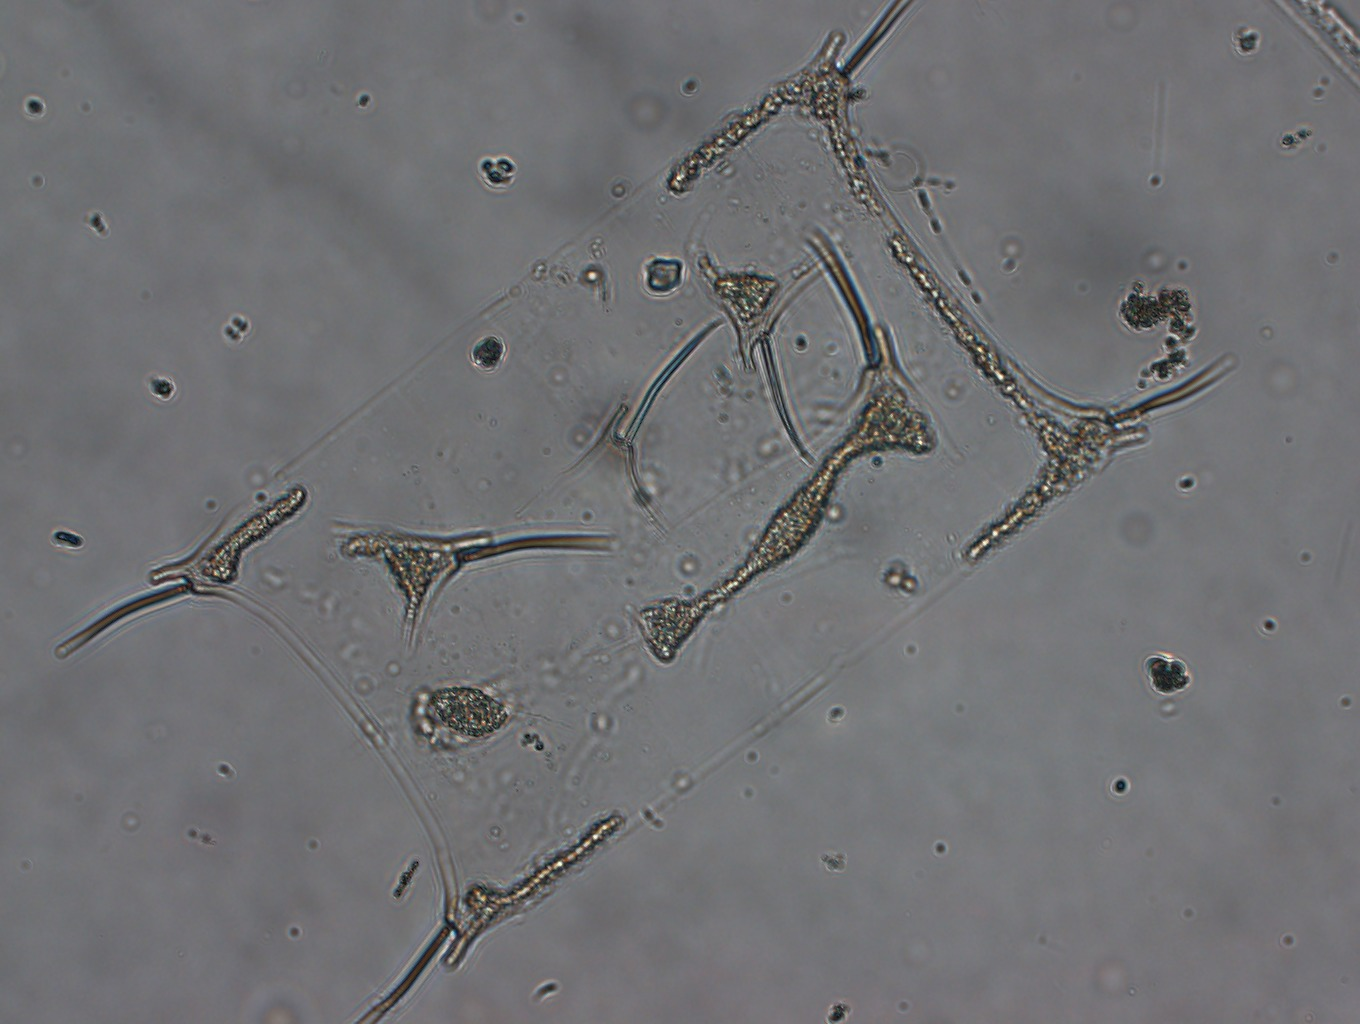biddulphia: (49, 2, 1244, 1024)
